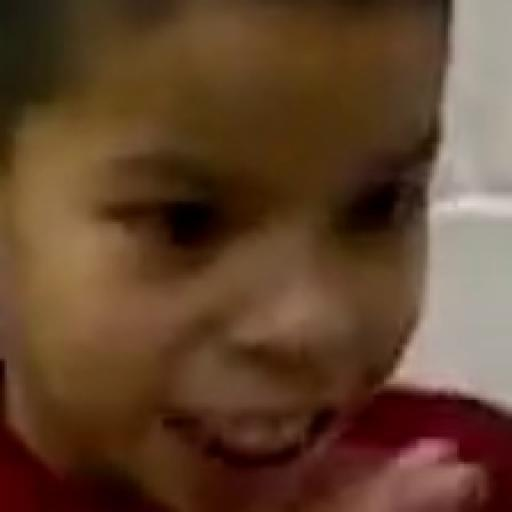Autism: (55, 0, 447, 512)
